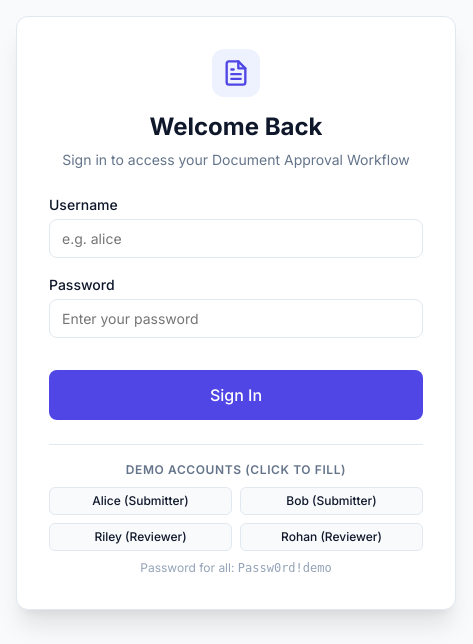
Scenario: Frontend: Login Page › populates fields when clicking quick login demo buttons
Click the button "Alice (Submitter)" at (140, 501), box [49,487,232,515]
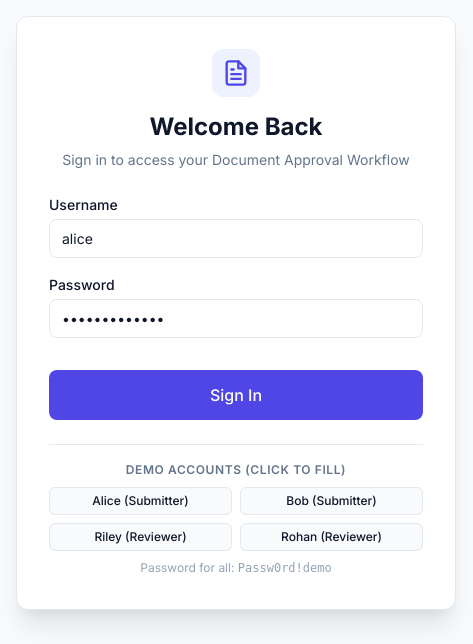
expect the field labelled "Username" holds "alice": met, box [49,219,423,258]
expect the password field labelled "Password" holds "Passw0rd!demo": met, box [49,299,423,338]
